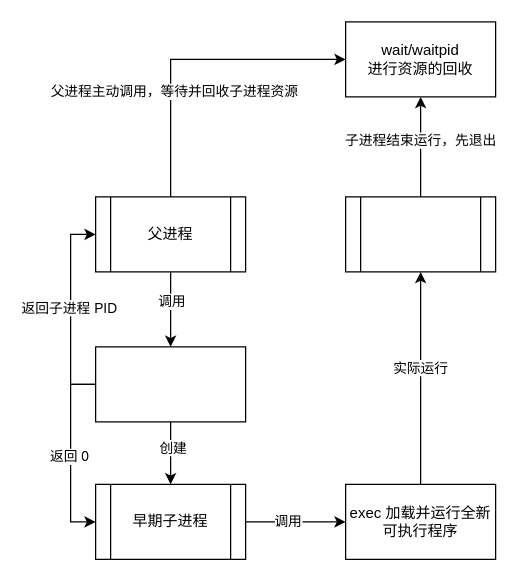
Some shapes in this 518 by 581 pixel diagram are drawn without their labels. Here are the shapes that lost their labels. From the top down, the box of each, then its label:
(344, 196, 496, 272): 子进程
(94, 346, 246, 422): fork() 系统调用
